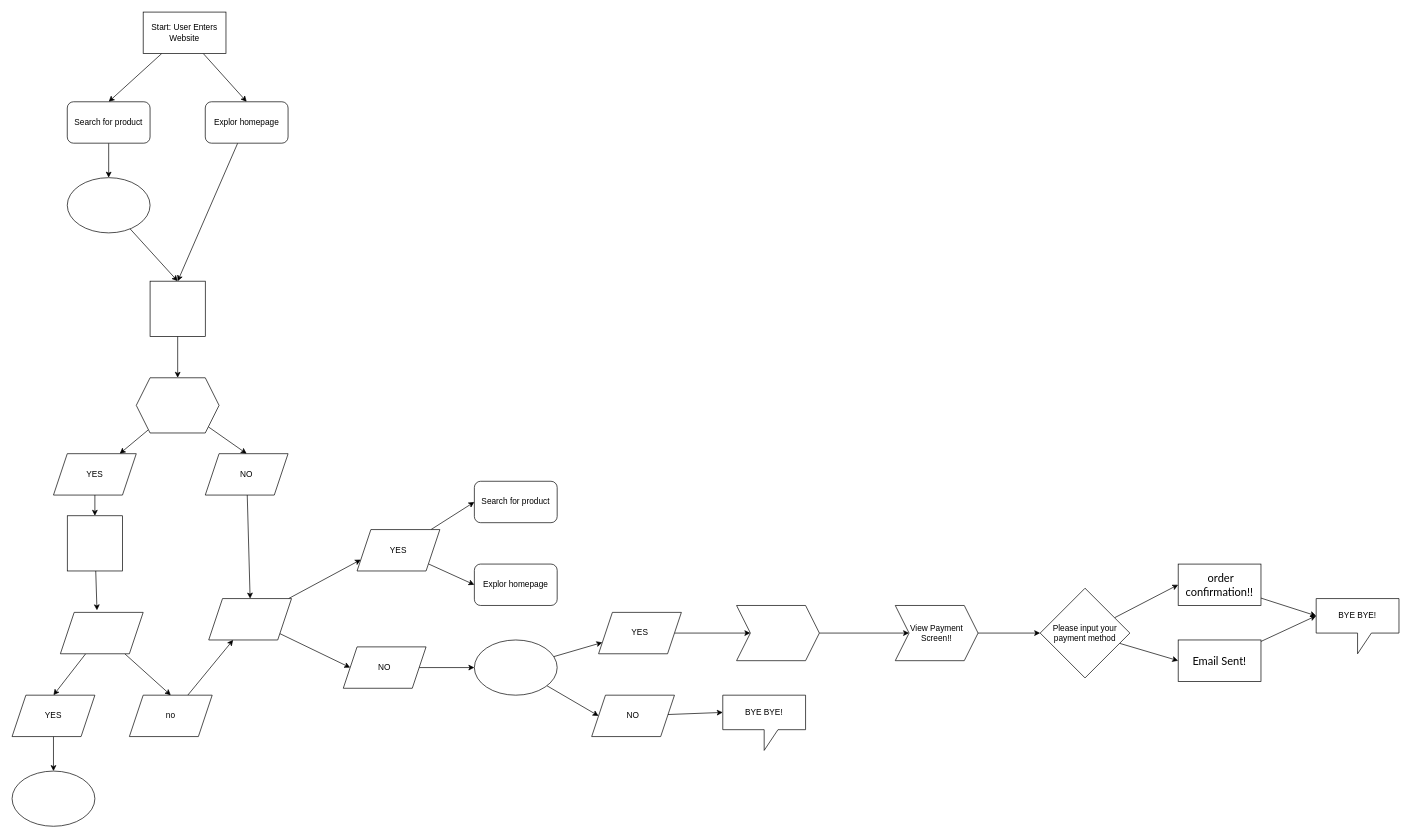
The diagram is 1411 pixels wide and 838 high, and some of its shapes have lost their labels. The centre of each missing label's shape, as x and y in pixels:
Confirmation to add the product to the cart: [53,798]
Do you wan to view this specifc product?: [177,405]
Do you want to add the product into your cart?: [101,633]
Do you want to checkout?: [515,667]
Do you want to continue shopping: [250,619]
Go to view Cart Screen: [777,633]
Here are some product lists!: [177,308]
Input the item you want to search!: [108,205]
This is a product Webpage!!: [94,543]
